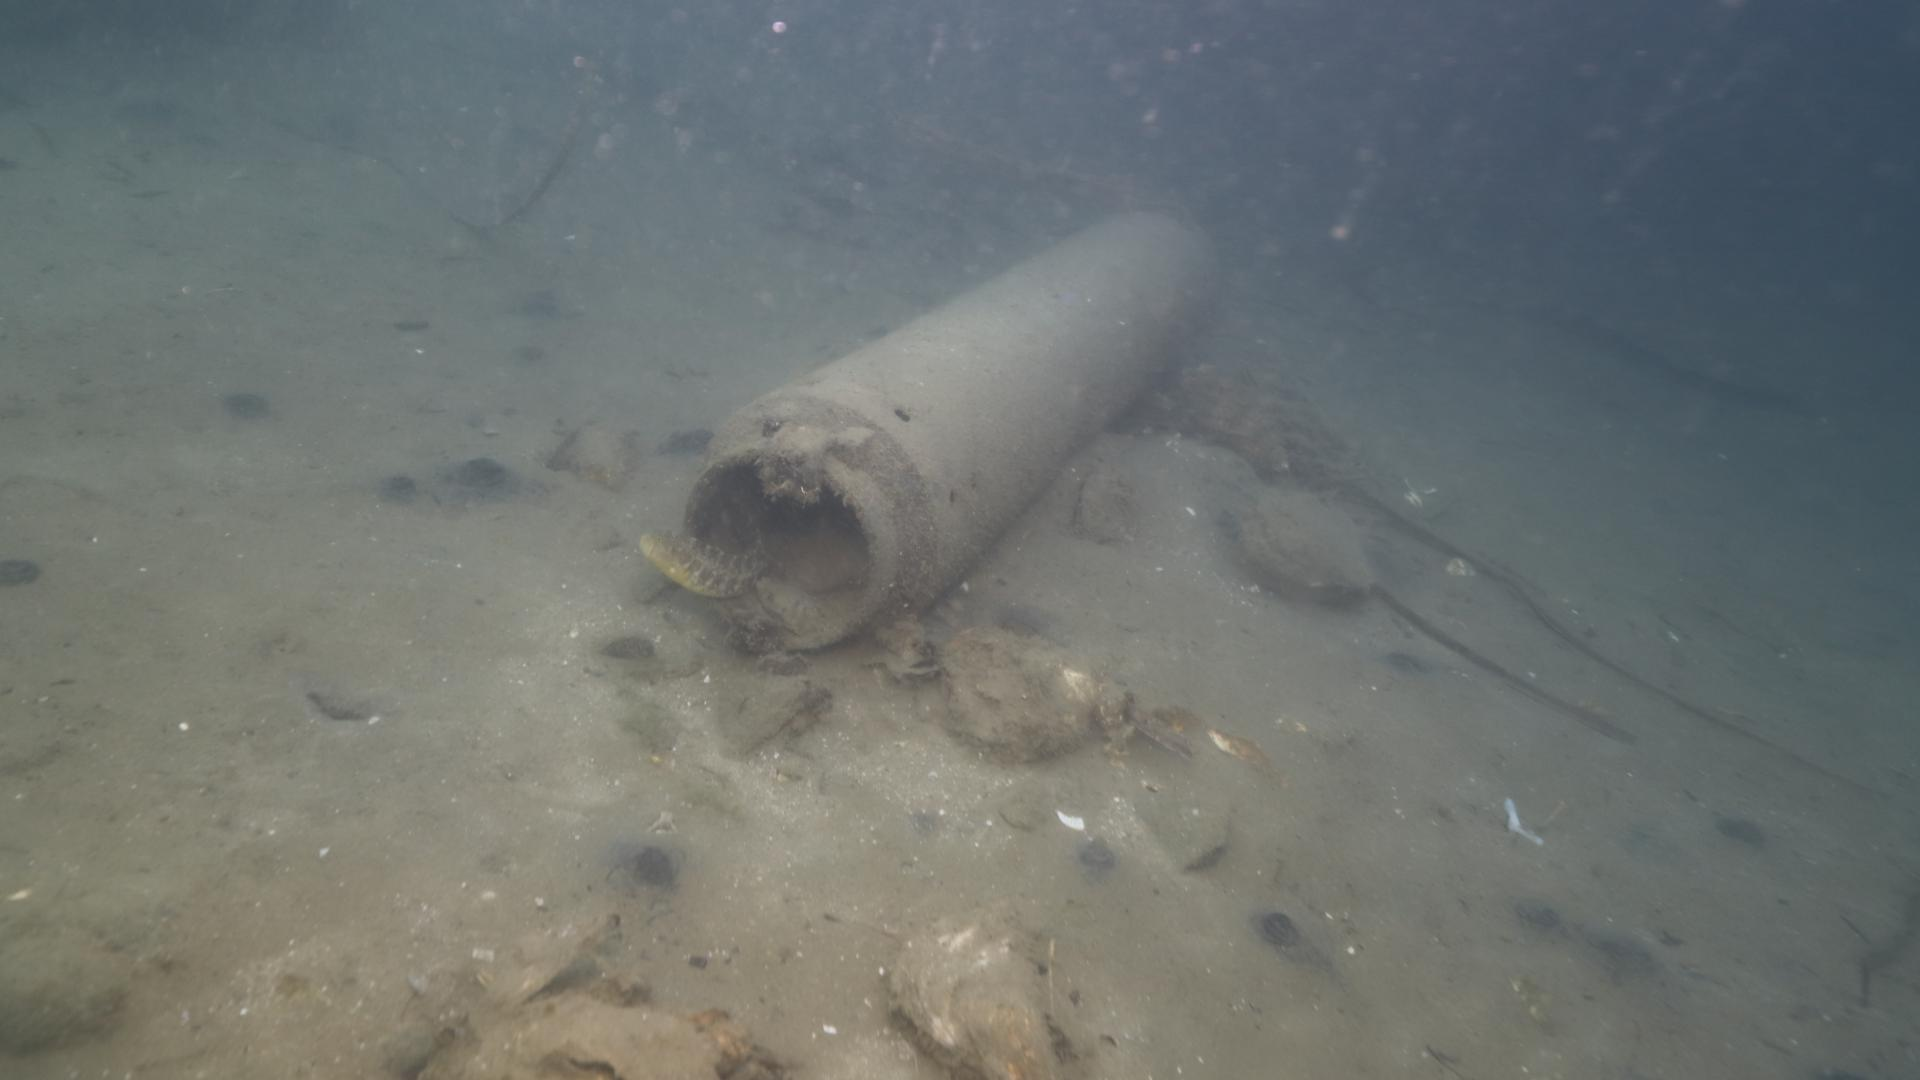eel fish trap: (673, 204, 1221, 665)
